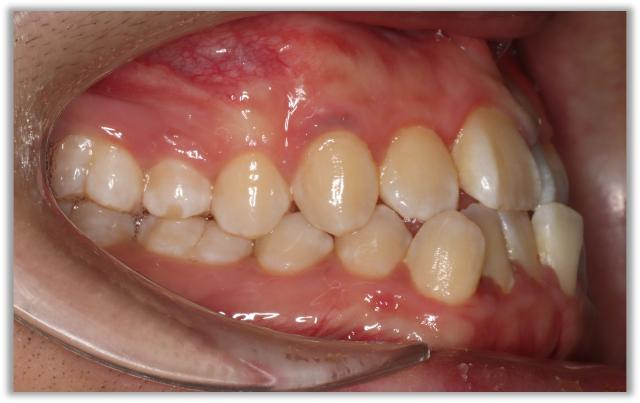canine class III full class: (280, 124, 484, 312)
molar class III full class: (53, 140, 253, 264)
